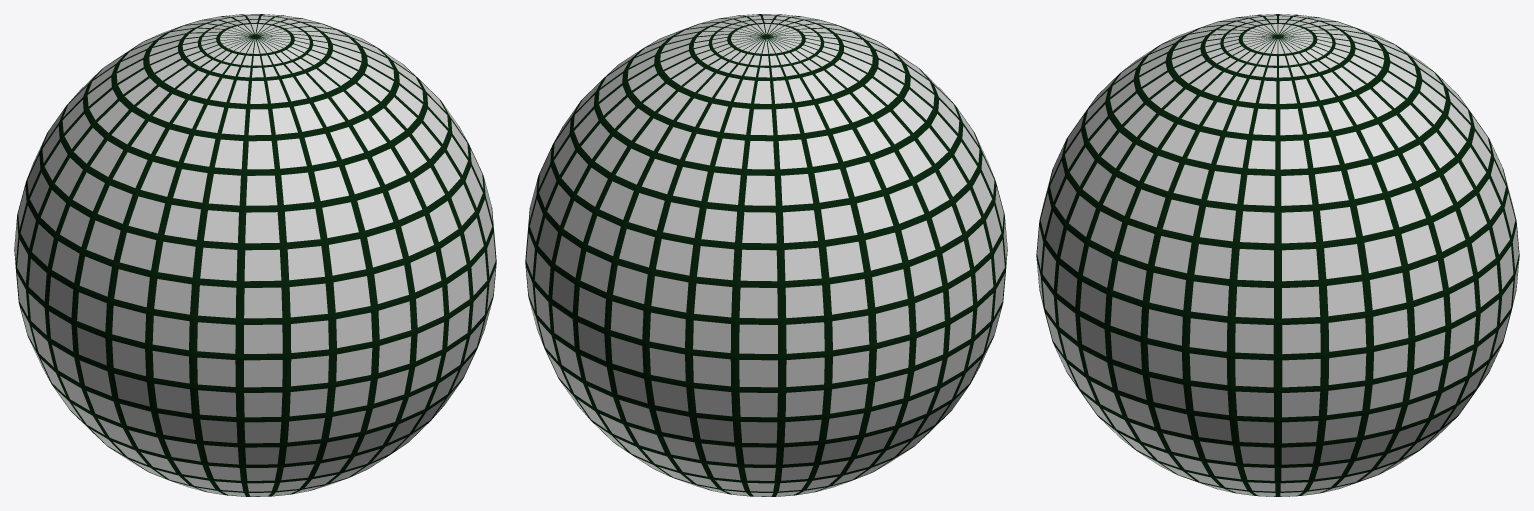
The model's file is Discoball.fbx.
The picture shows the model from 3 angles, left to right: view 1: azimuth 30°, elevation 25°; view 2: azimuth 150°, elevation 25°; view 3: azimuth 270°, elevation 25°; orthographic projection.
Parts seen in each view (by area): view 1: Sphere; view 2: Sphere; view 3: Sphere.
Part boxes in pixels (x1=…): Sphere: x1=14, y1=14, x2=496, y2=496; Sphere: x1=525, y1=14, x2=1007, y2=496; Sphere: x1=1036, y1=14, x2=1519, y2=496.
Bounding box in the file's own units: 90 × 90 × 90.
